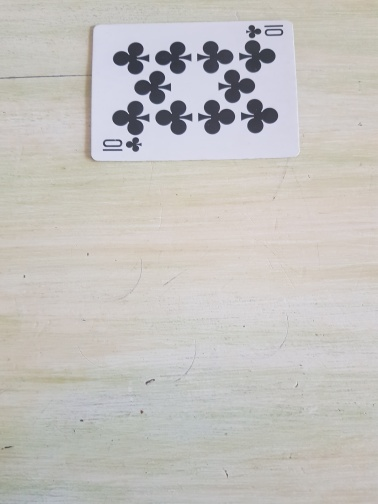ten: (89, 17, 299, 164)
